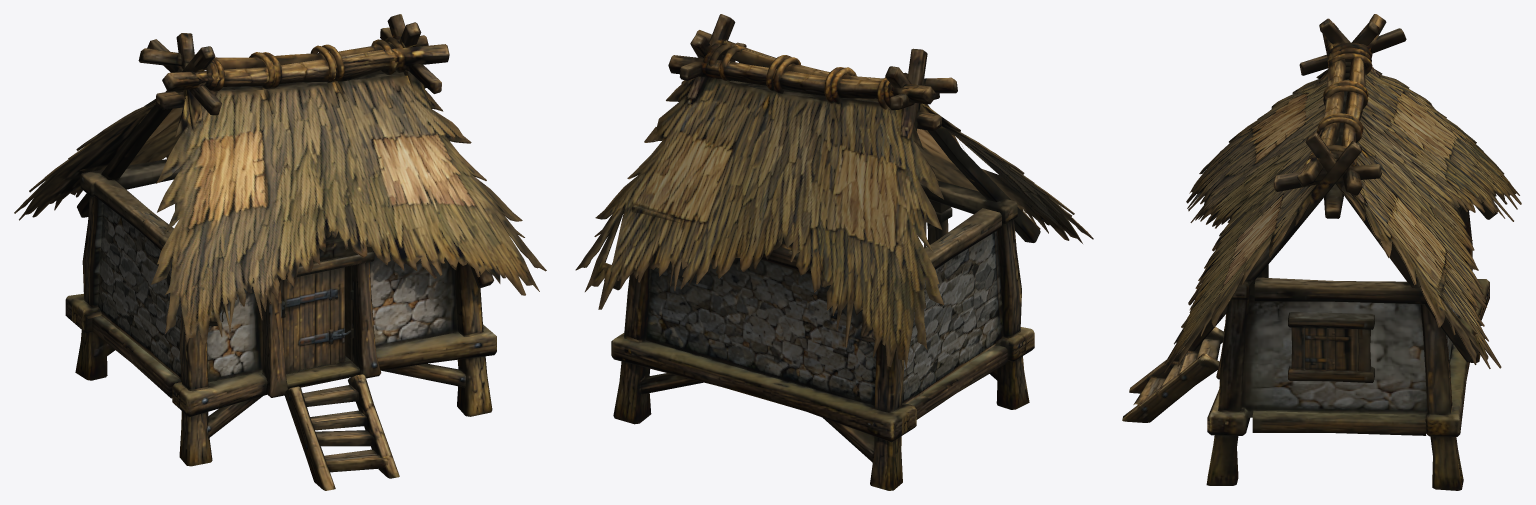
Rendered from act1_kit_v1_stilt_cottage.glb.
3 views of the same model, side by side, from view 1: azimuth 30°, elevation 25°; view 2: azimuth 150°, elevation 25°; view 3: azimuth 270°, elevation 25° (orthographic). The views are drawn at different scales.
Parts seen in each view (by area): view 1: act1_kit_v1_stilt_cottage; view 2: act1_kit_v1_stilt_cottage; view 3: act1_kit_v1_stilt_cottage.
Boxes of the visible parts, x1=… form: act1_kit_v1_stilt_cottage: x1=14, y1=14, x2=546, y2=490; act1_kit_v1_stilt_cottage: x1=575, y1=14, x2=1093, y2=490; act1_kit_v1_stilt_cottage: x1=1122, y1=14, x2=1521, y2=490.
Bounding box in the file's own units: 1 × 0.9601 × 0.9656.
1 material, 1 textured.
